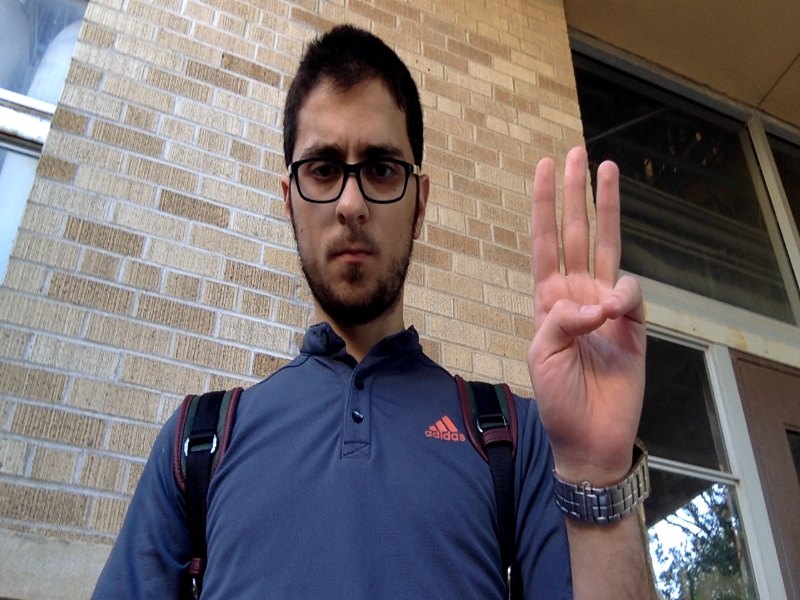3-hand: (532, 146, 642, 464)
